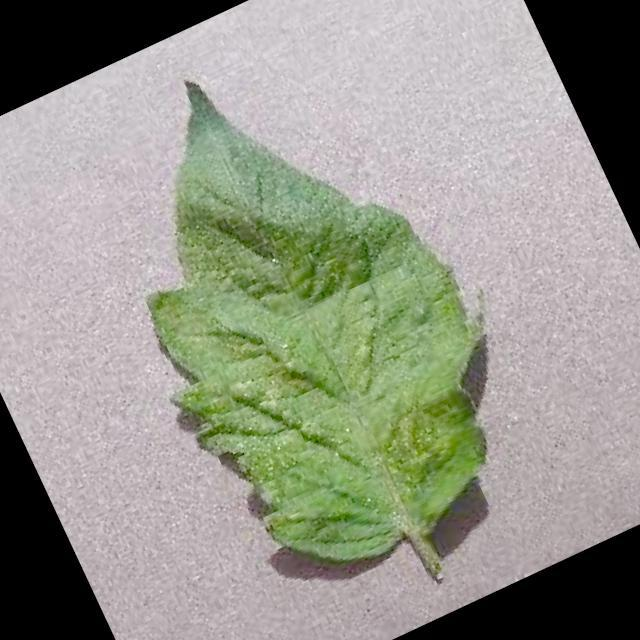Tomato spider mites leaf: (50, 7, 551, 609)
